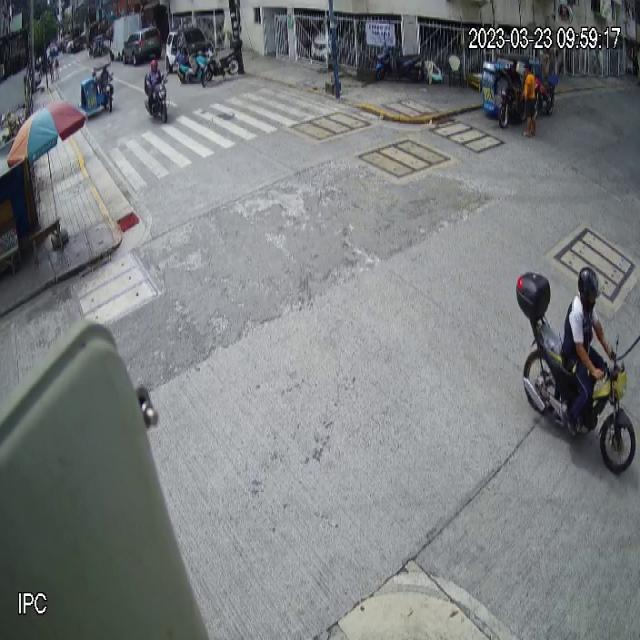Motorcycle: (515, 271, 637, 476)
Tricycle: (480, 51, 528, 128)
